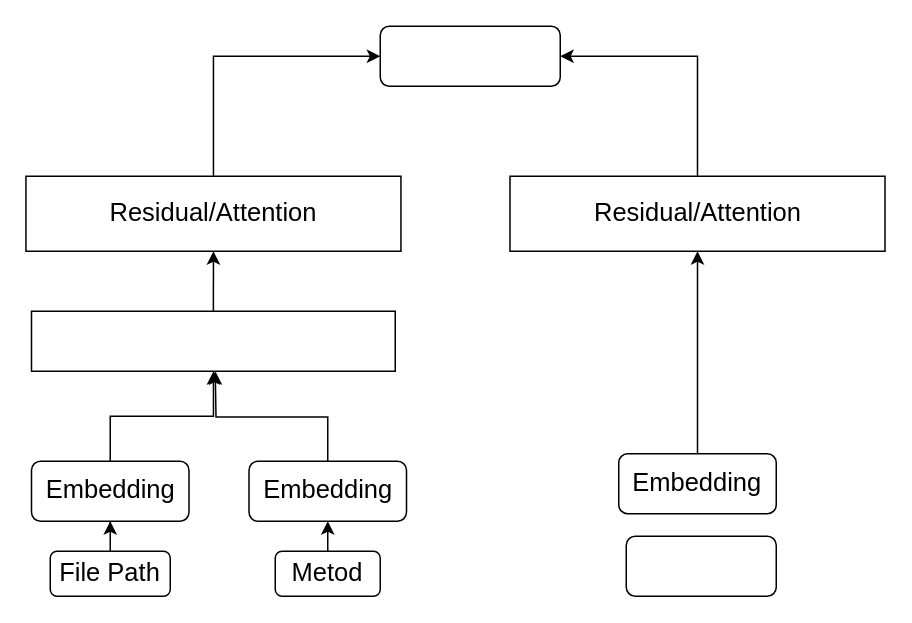
Some shapes in this 912 by 623 pixel diagram are drawn without their labels. Here are the shapes that lost their labels. From the top down, the centre of each, then its label:
At pixel 469 55: "Similarity".
At pixel 212 340: "Concate".
At pixel 700 565: "Bug Report".
